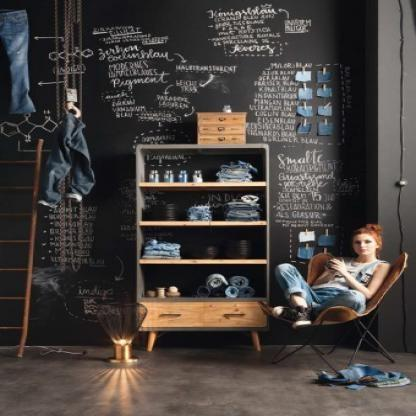Rak: (137, 145, 268, 300)
